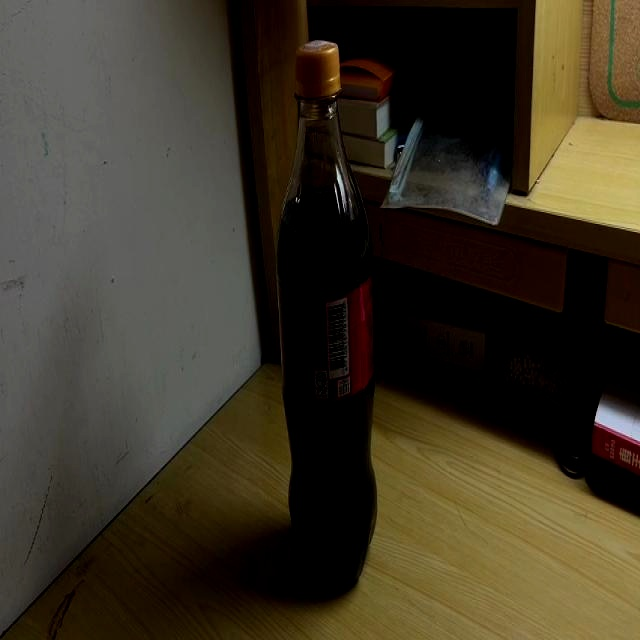Coca-Cola: (278, 40, 380, 597)
